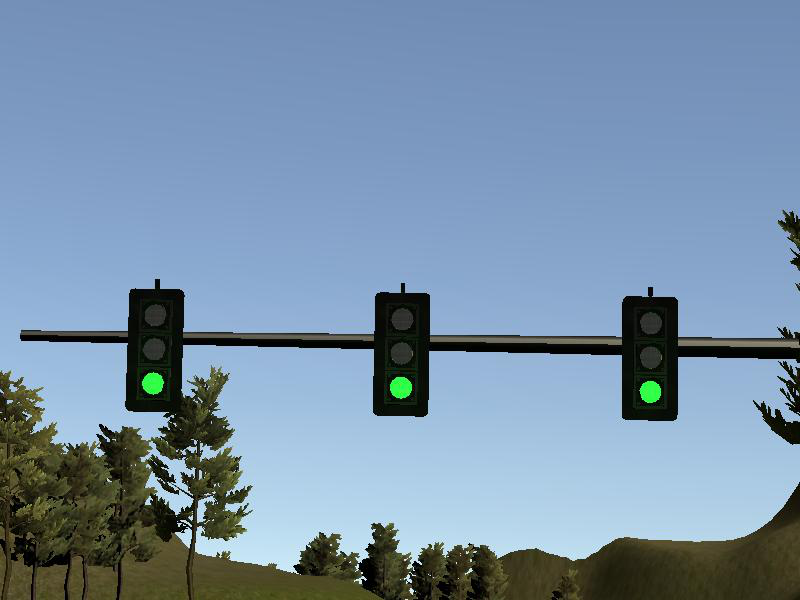green: (374, 291, 430, 418), (623, 295, 679, 422), (128, 288, 181, 412)
